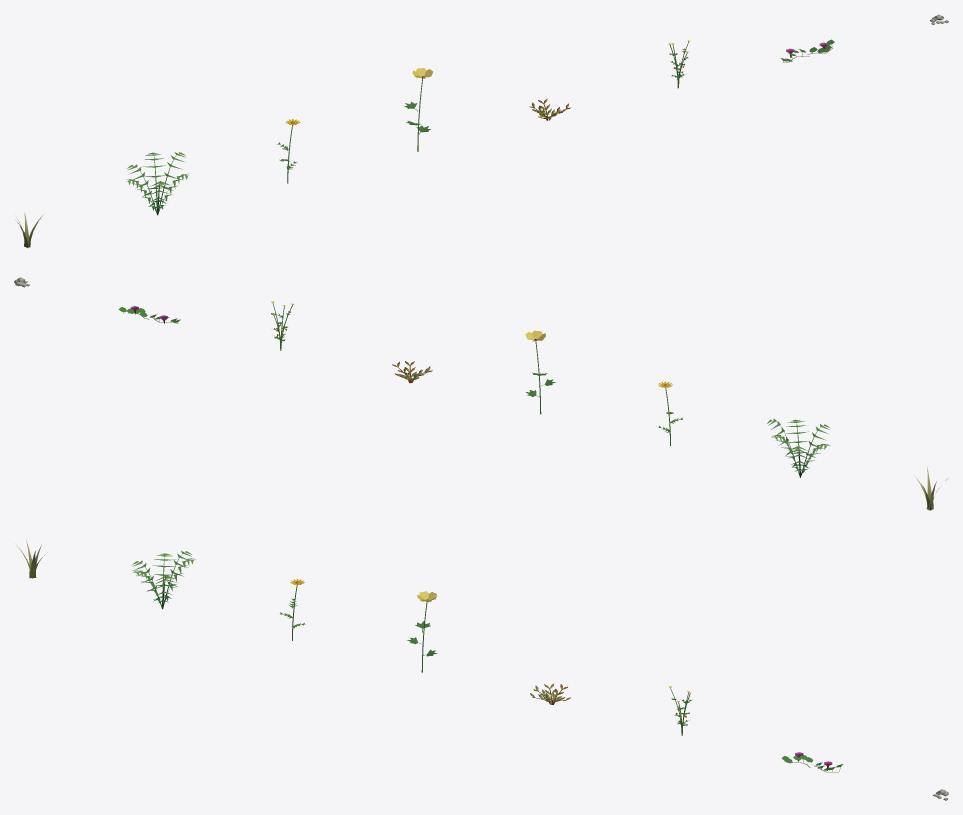
The model's file is plants.glb.
3 renders of one model, top to bottom at view 1: azimuth 30°, elevation 25°; view 2: azimuth 150°, elevation 25°; view 3: azimuth 330°, elevation 25°, orthographic.
Parts seen in each view (by area): view 1: fern; view 2: fern; view 3: fern.
Boxes of the visible parts, <box> form: fern: <box>126,152,188,215</box>; fern: <box>767,418,830,477</box>; fern: <box>132,550,195,609</box>.
Size of the model in its own units: 2.16 by 0.172 by 0.134.
